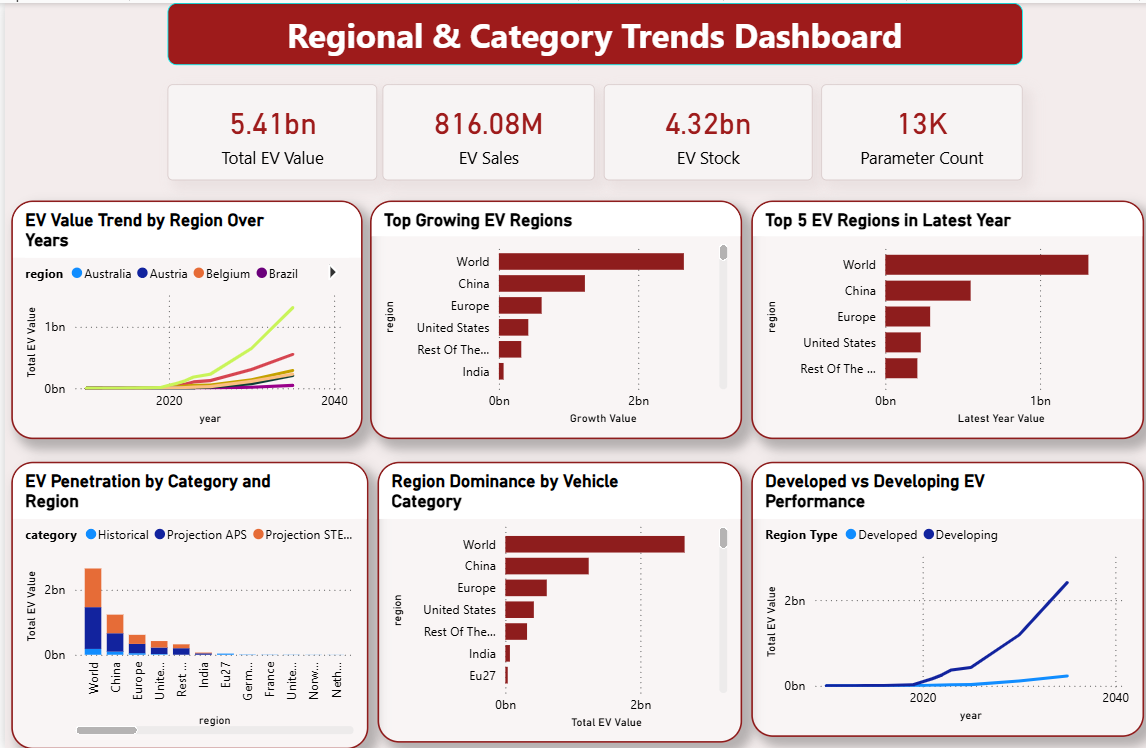

The dashboard page shown, as its layout file describes it:
{"tool":"powerbi","page":{"name":"Regional Analysis","canvas":[1280,720],"ordinal":0},"visuals":[{"type":"textbox","box":[156.8,0,825.2,60.3],"z":0},{"type":"card","fields":{"Values":["IEA Global EV Data 2024.Total EV Value"]},"box":[156.8,78.4,202.7,92.9],"z":1000},{"type":"card","fields":{"Values":["IEA Global EV Data 2024.EV Sales"]},"box":[364.3,78.4,205.1,92.9],"z":3000},{"type":"card","fields":{"Values":["IEA Global EV Data 2024.EV Stock"]},"box":[577.9,78.4,201.5,92.9],"z":4000},{"type":"card","fields":{"Values":["IEA Global EV Data 2024.Parameter Count"]},"box":[787.8,78.4,194.2,92.9],"z":5000},{"type":"slicer","fields":{"Values":["IEA Global EV Data 2024.region"]},"box":[1111.1,20.5,168.9,699.7],"z":6000},{"type":"lineChart","title":"EV Value Trend by Region Over Years","fields":{"Category":["IEA Global EV Data 2024.year"],"Y":["IEA Global EV Data 2024.Total EV Value"],"Series":["IEA Global EV Data 2024.region"]},"box":[6,190.6,339,230.4],"z":9000},{"type":"clusteredBarChart","title":"Top Growing EV Regions","fields":{"Y":["IEA Global EV Data 2024.Growth Value"],"Category":["IEA Global EV Data 2024.region"]},"box":[352.3,190.6,359.5,230.4],"z":10000},{"type":"barChart","title":"Top 5 EV Regions in Latest Year","fields":{"Y":["IEA Global EV Data 2024.Latest Year Value"],"Category":["IEA Global EV Data 2024.region"]},"box":[720.2,190.6,378.8,230.4],"z":11000},{"type":"columnChart","title":"EV Penetration by Category and Region","fields":{"Category":["IEA Global EV Data 2024.region"],"Y":["IEA Global EV Data 2024.Total EV Value"],"Series":["IEA Global EV Data 2024.category"]},"box":[6,442.8,345,277.5],"z":12000},{"type":"clusteredBarChart","title":"Region Dominance by Vehicle Category","fields":{"Y":["IEA Global EV Data 2024.Total EV Value"],"Category":["IEA Global EV Data 2024.region"]},"box":[359.5,442.8,352.3,271.4],"z":13000},{"type":"lineChart","title":"Developed vs Developing EV Performance","fields":{"Category":["IEA Global EV Data 2024.year"],"Y":["IEA Global EV Data 2024.Total EV Value"],"Series":["IEA Global EV Data 2024.Region Type"]},"box":[720.2,442.8,378.8,265.4],"z":14000}]}

Visuals, with their boxes on the page's 1280x720 design canvas (x1, y1, x2, y2). These are canvas units, not pixel positions in the 1146x748 screenshot, which may show the page scaled, cropped or inside an application window:
textbox: <bbox>157, 0, 982, 60</bbox>
card - IEA Global EV Data 2024.Total EV Value: <bbox>157, 78, 360, 171</bbox>
card - IEA Global EV Data 2024.EV Sales: <bbox>364, 78, 569, 171</bbox>
card - IEA Global EV Data 2024.EV Stock: <bbox>578, 78, 779, 171</bbox>
card - IEA Global EV Data 2024.Parameter Count: <bbox>788, 78, 982, 171</bbox>
slicer - IEA Global EV Data 2024.region: <bbox>1111, 20, 1280, 720</bbox>
"EV Value Trend by Region Over Years" lineChart: <bbox>6, 191, 345, 421</bbox>
"Top Growing EV Regions" clusteredBarChart: <bbox>352, 191, 712, 421</bbox>
"Top 5 EV Regions in Latest Year" barChart: <bbox>720, 191, 1099, 421</bbox>
"EV Penetration by Category and Region" columnChart: <bbox>6, 443, 351, 720</bbox>
"Region Dominance by Vehicle Category" clusteredBarChart: <bbox>360, 443, 712, 714</bbox>
"Developed vs Developing EV Performance" lineChart: <bbox>720, 443, 1099, 708</bbox>
